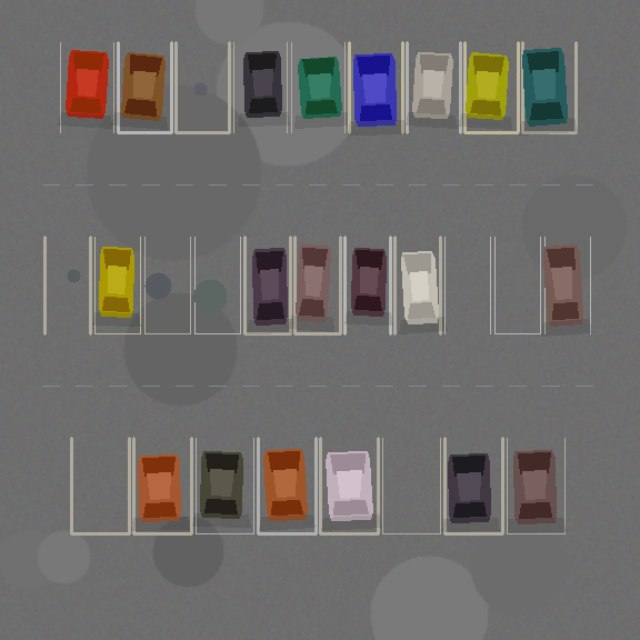space-empty: (71, 438, 129, 533), (382, 438, 440, 533), (176, 42, 229, 132), (44, 237, 90, 333), (144, 237, 190, 333), (194, 237, 240, 333), (444, 237, 490, 333), (494, 237, 540, 333)
space-occupied: (133, 438, 191, 533), (258, 438, 316, 533), (320, 438, 378, 533), (444, 438, 502, 533), (196, 438, 253, 533), (507, 438, 564, 533), (233, 42, 287, 132), (464, 42, 518, 132), (522, 42, 576, 132), (60, 42, 113, 132), (118, 42, 171, 132), (291, 42, 344, 132), (349, 42, 402, 132), (407, 42, 460, 132), (94, 237, 140, 333), (244, 237, 290, 333), (294, 237, 340, 333), (344, 237, 390, 333), (394, 237, 440, 333), (544, 237, 590, 333)
